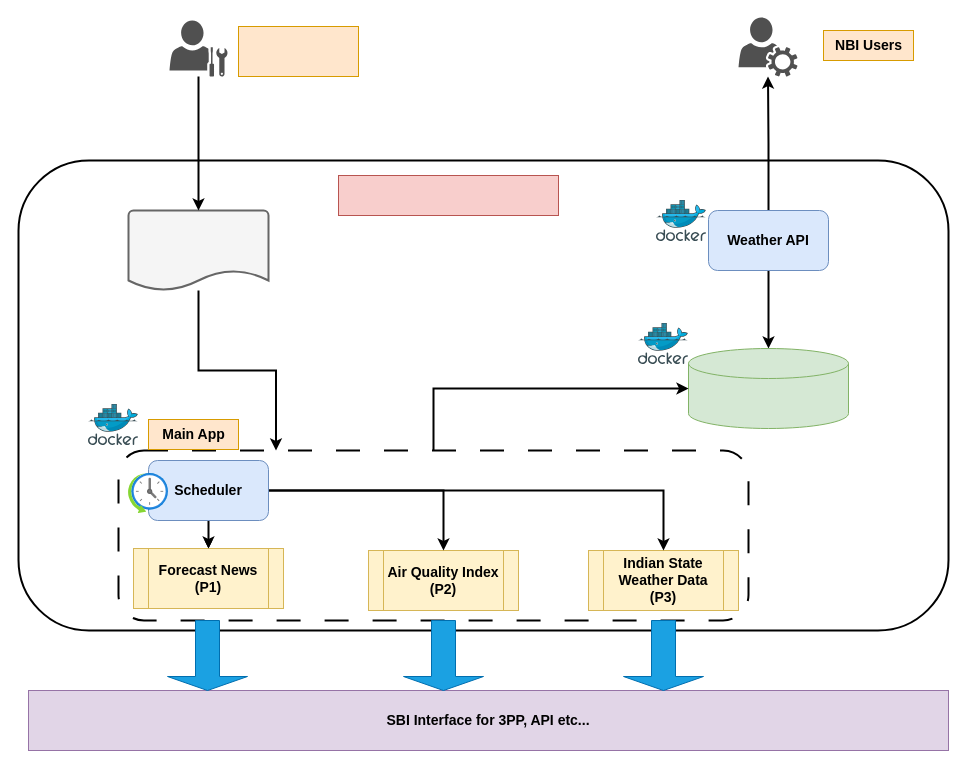
Image size: 966x768. Some labels were removed from this diagram. The shapes that lost their labels are listed below. From the top down, each one's centre as x and y in pixels, then its label:
the point at 298,51: System Administrator
the point at 448,195: Weather Watch App
the point at 198,250: Config Map
the point at 768,388: Opensearch DB
